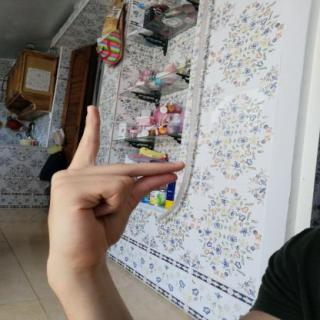TAA: (35, 98, 193, 282)
